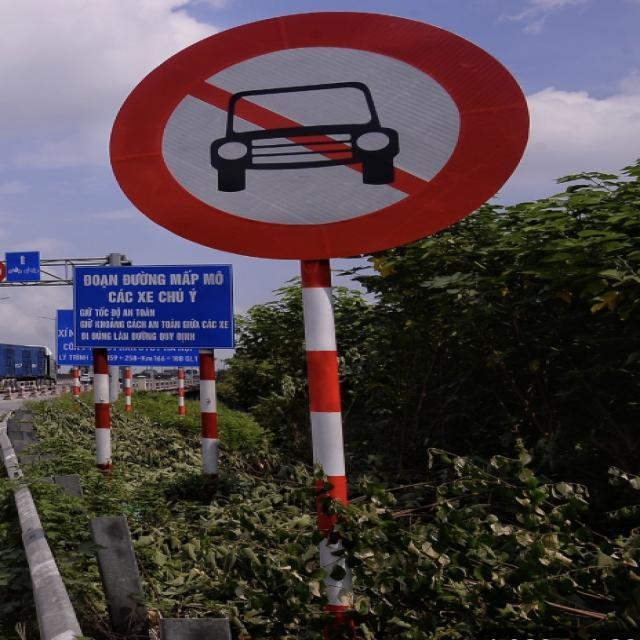103a-cam-oto: (106, 14, 528, 258)
